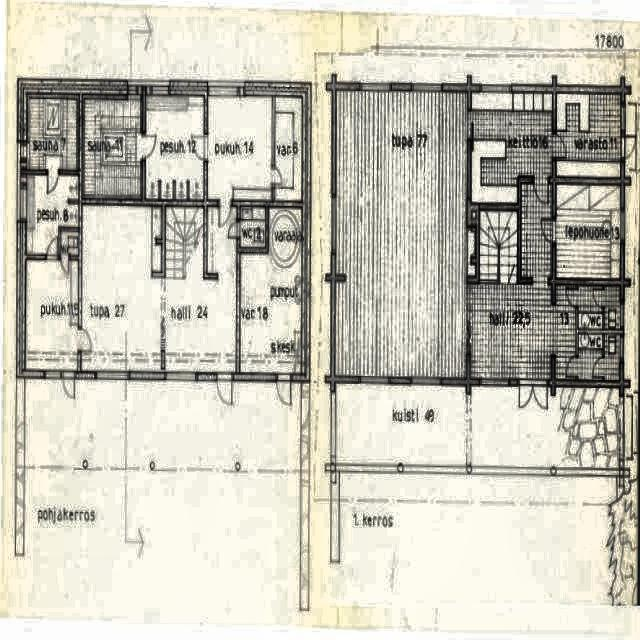room: (240, 207, 302, 373), (208, 96, 272, 200), (83, 95, 141, 199), (556, 184, 620, 278), (146, 96, 204, 199), (25, 260, 78, 370), (556, 94, 621, 178), (27, 176, 79, 255), (27, 95, 79, 170), (276, 96, 302, 201), (579, 334, 603, 380), (240, 207, 266, 247), (579, 286, 602, 328), (605, 333, 620, 380), (605, 286, 620, 328)
